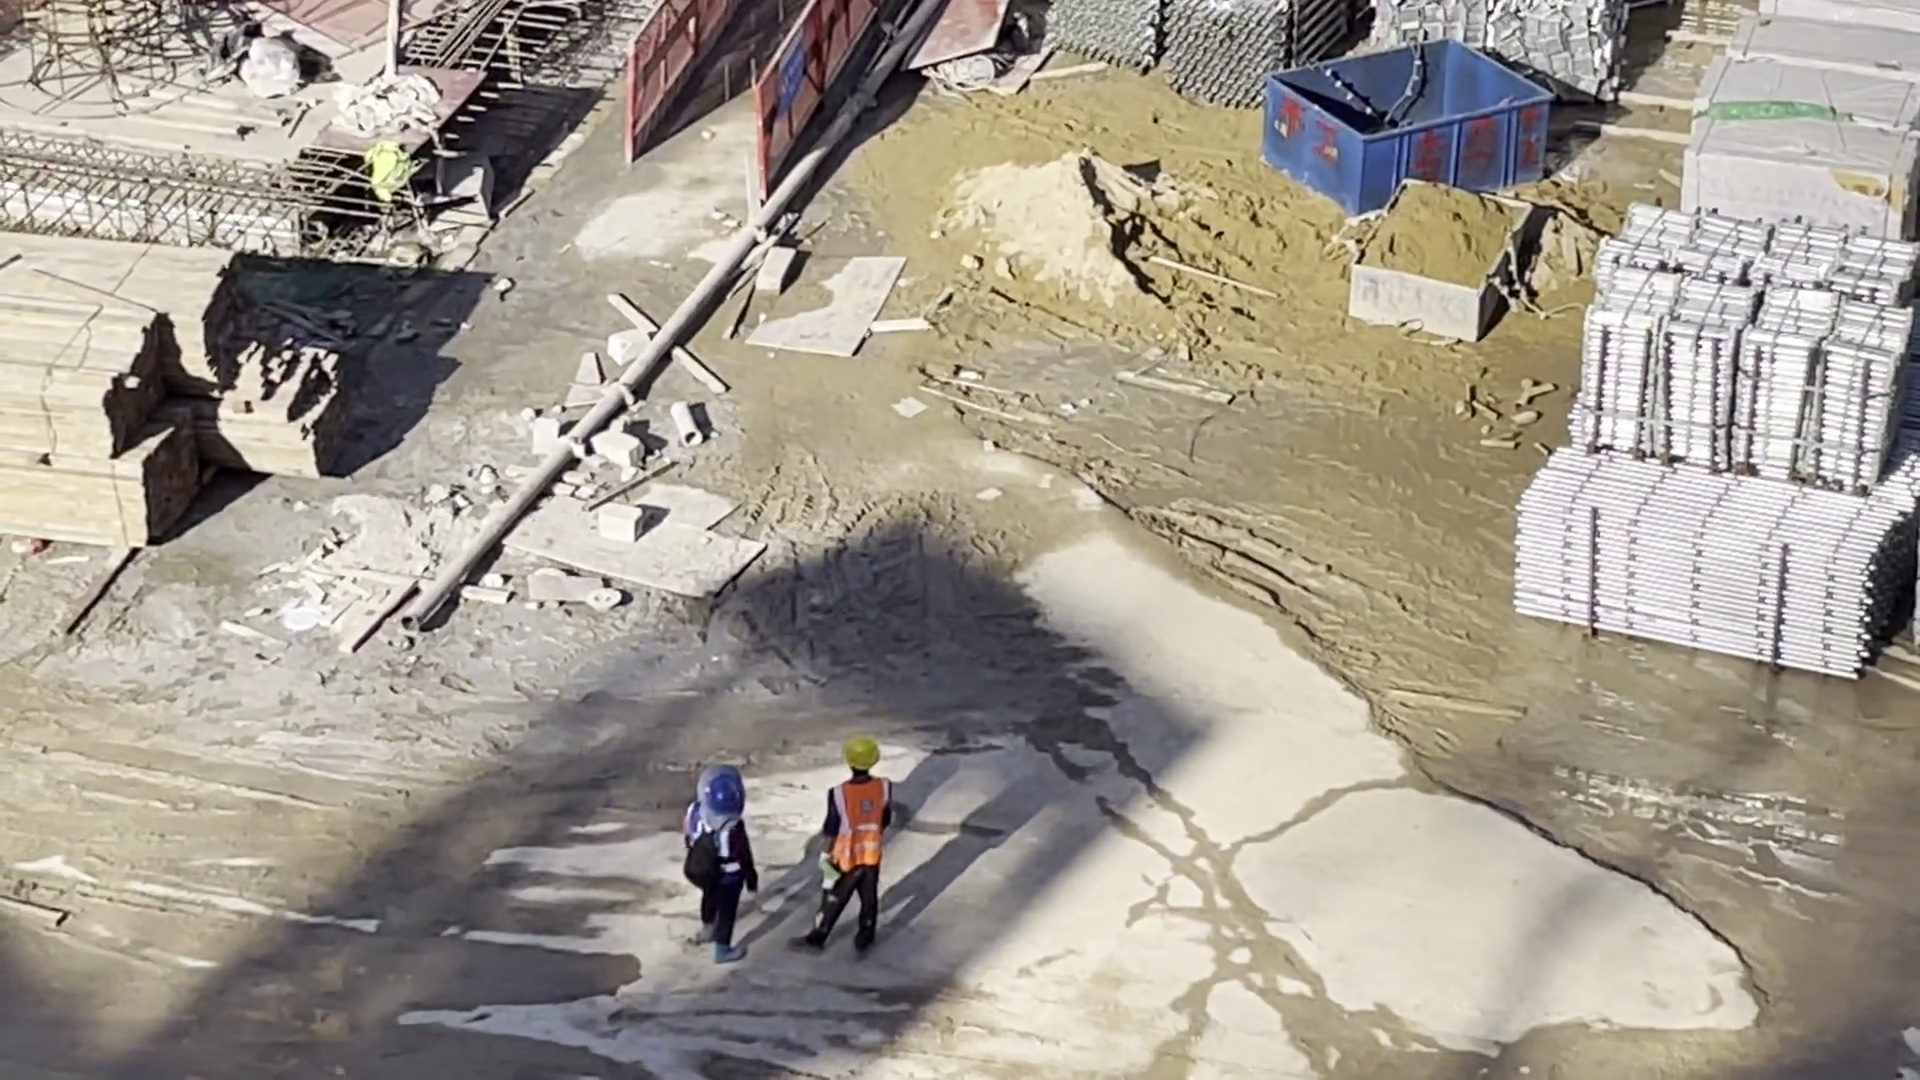fence: (633, 1, 873, 162)
helmet: (705, 772, 746, 814), (844, 740, 880, 767)
hopper: (1266, 39, 1551, 222), (1348, 180, 1532, 345)
person: (811, 745, 883, 958), (683, 769, 748, 961)
scaffold: (1578, 197, 1912, 496), (1520, 451, 1920, 682), (1048, 1, 1347, 108)
slogan: (779, 31, 801, 110)
vest: (833, 785, 879, 869), (690, 811, 733, 868)
wood: (1, 234, 252, 535)
